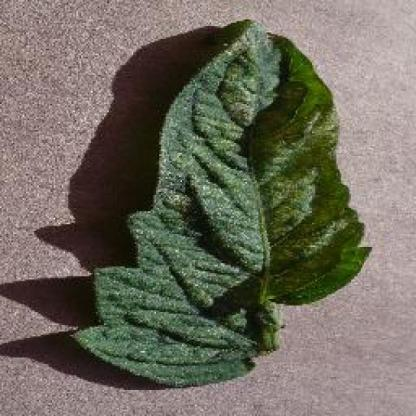Tomato_Spider_Mites: (73, 21, 372, 382)
